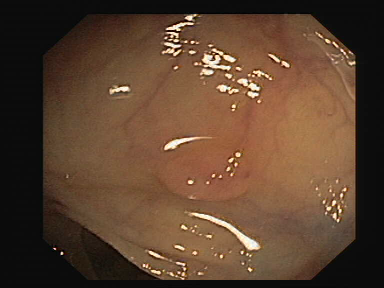polyp: (141, 122, 263, 210)
